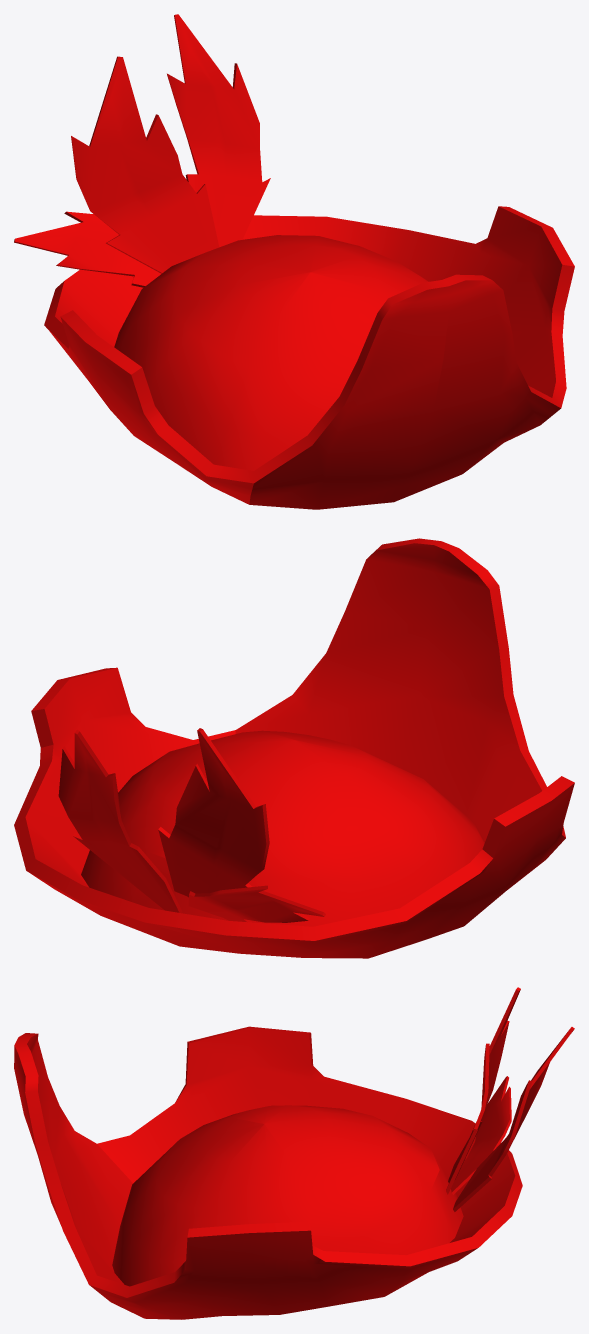
File: Asset_PirateHat_01.glb
3 renders of one model, top to bottom at view 1: azimuth 30°, elevation 25°; view 2: azimuth 150°, elevation 25°; view 3: azimuth 270°, elevation 25°, orthographic. The views are drawn at different scales.
Parts seen in each view (by area): view 1: Asset_PirateHat_01; view 2: Asset_PirateHat_01; view 3: Asset_PirateHat_01.
Part boxes in pixels (x1,y1,x2,y2): Asset_PirateHat_01: (14, 14, 574, 509); Asset_PirateHat_01: (14, 538, 574, 958); Asset_PirateHat_01: (14, 987, 574, 1319).
Size of the model in its own units: 0.7878 by 0.4743 by 0.9044.
